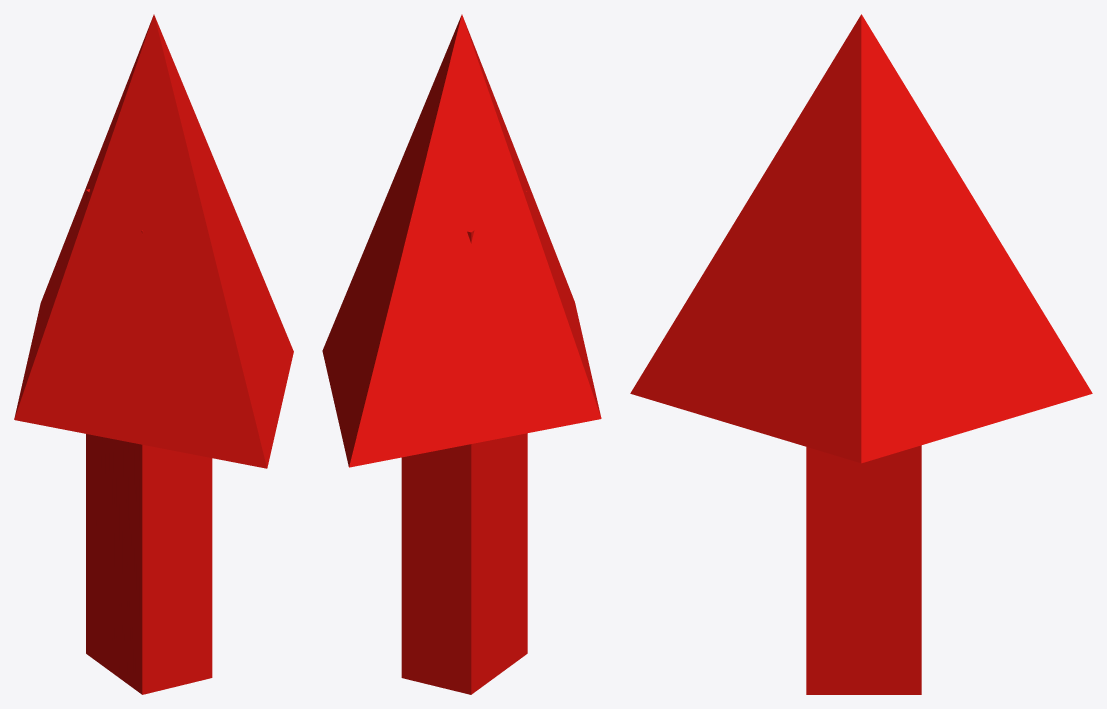
File: pine-dry-low.glb
3 views of the same model, side by side, from view 1: azimuth 30°, elevation 25°; view 2: azimuth 150°, elevation 25°; view 3: azimuth 270°, elevation 25° (orthographic). The views are drawn at different scales.
Parts seen in each view (by area): view 1: 立方体; view 2: 立方体; view 3: 立方体.
Part boxes in pixels (<box>): 立方体: <box>14,14,293,694</box>; 立方体: <box>322,14,601,694</box>; 立方体: <box>630,14,1092,694</box>.
Bounding box in the file's own units: 1.33 × 2.96 × 1.86.
